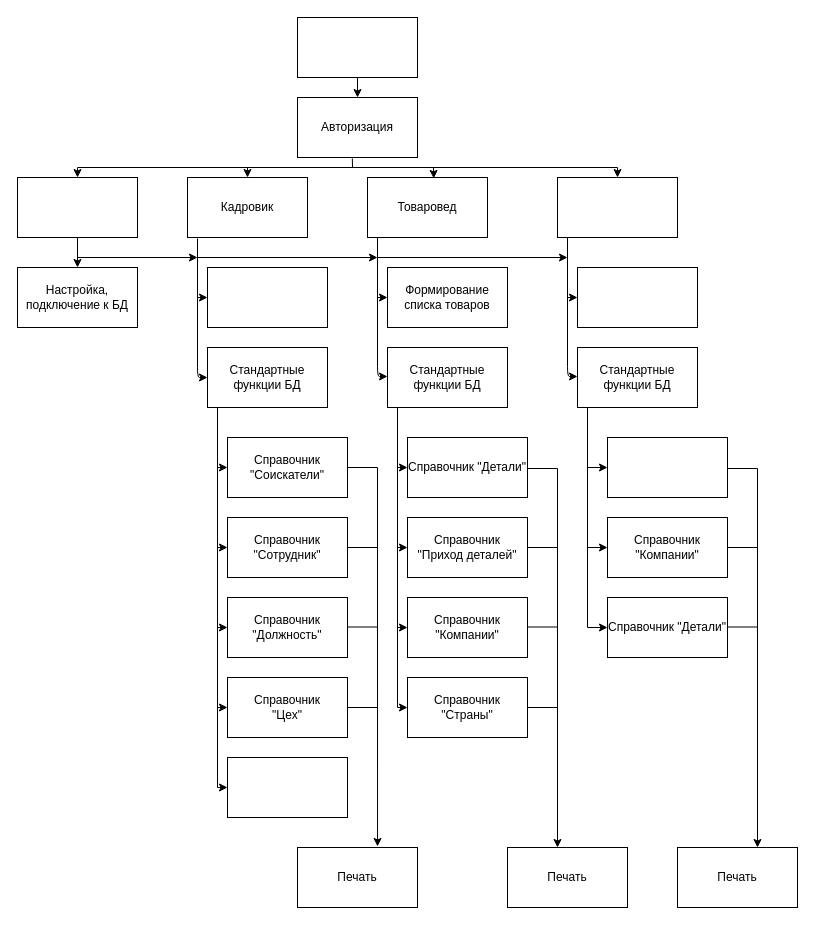
The diagram is 815 pixels wide and 925 high, and some of its shapes have lost their labels. Each missing label, with the centre of its shape:
Администратор: the point at 77,207
ИС "AirFactory": the point at 357,47
Работник цеха: the point at 617,207
Регистрация нового пользователя: the point at 287,787
Справочник "Готовая продукция": the point at 667,467
Управление данными сотрудников: the point at 267,297
Формирование списка готовой продукции: the point at 637,297
